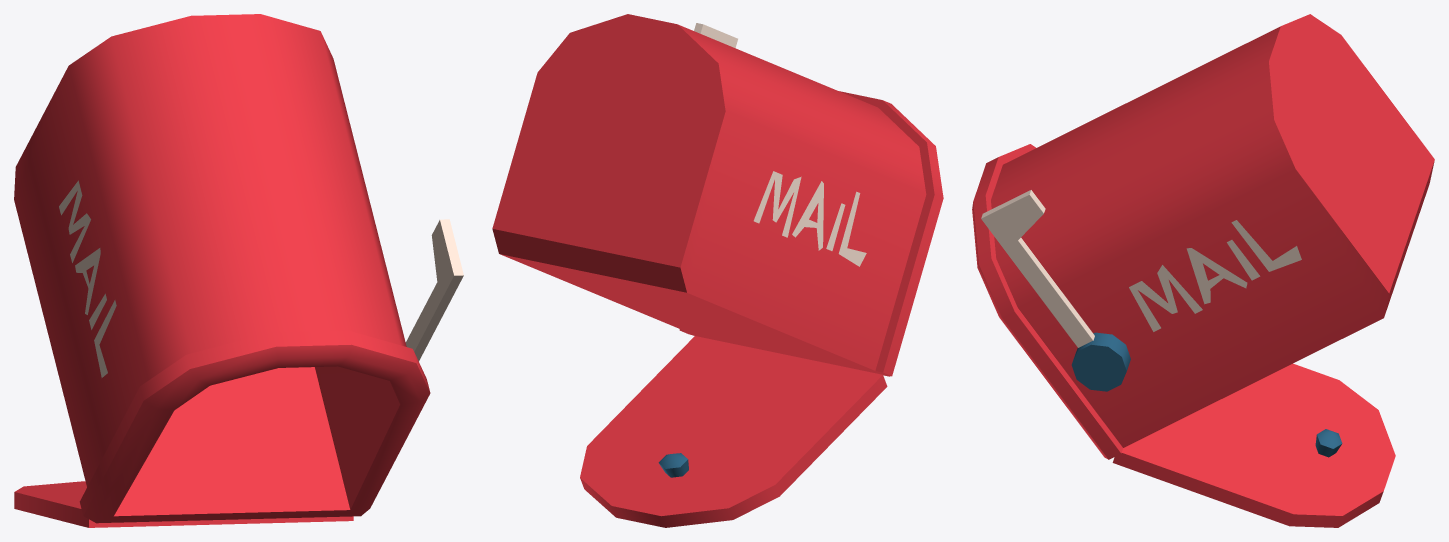
File: Domik_Mail.fbx
The picture shows the model from 3 angles, left to right: view 1: azimuth 30°, elevation 25°; view 2: azimuth 150°, elevation 25°; view 3: azimuth 270°, elevation 25°; orthographic projection. The views are drawn at different scales.
Parts seen in each view (by area): view 1: Box011; view 2: Box011; view 3: Box011.
Boxes of the visible parts, <box> form: Box011: <box>14,14,463,527</box>; Box011: <box>492,14,943,527</box>; Box011: <box>972,14,1434,527</box>.
Bounding box in the file's own units: 520 × 798 × 711.
